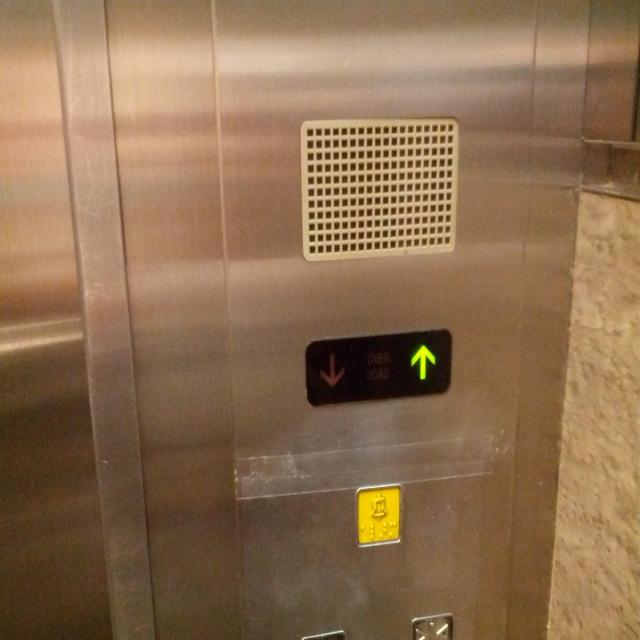alarm: (354, 481, 402, 551)
